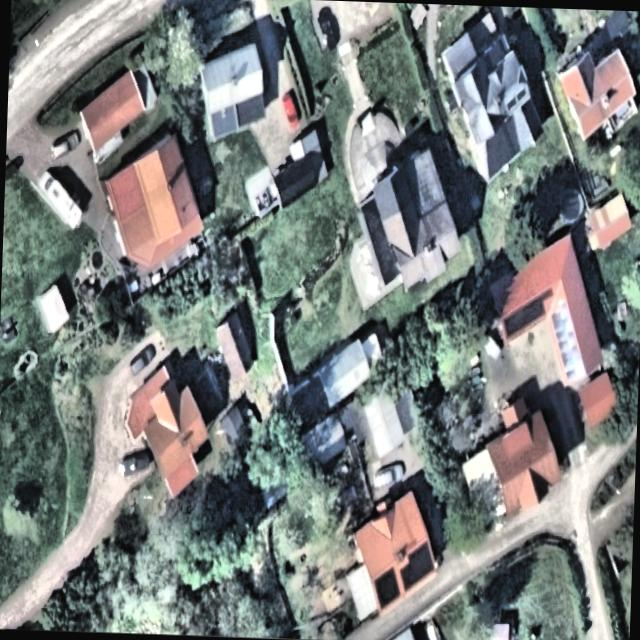roof_pv: (400, 541, 434, 594), (373, 569, 407, 610), (558, 330, 582, 378), (548, 302, 572, 341), (505, 305, 534, 335), (530, 286, 556, 318)
